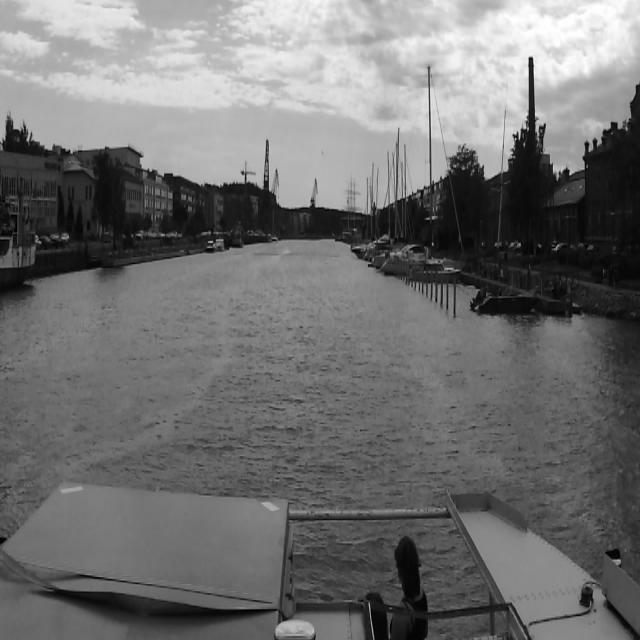ship: (381, 67, 437, 277), (338, 166, 364, 251), (469, 286, 537, 314), (410, 260, 462, 282), (206, 240, 216, 253), (216, 238, 224, 252)
